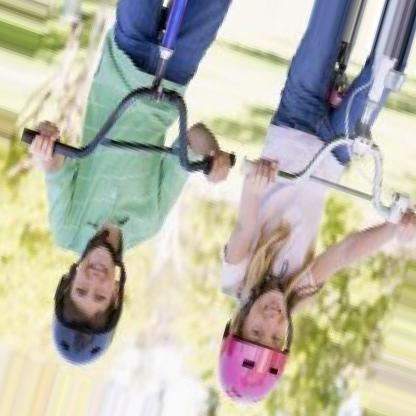with helmet: (51, 243, 126, 366), (217, 290, 291, 405)
